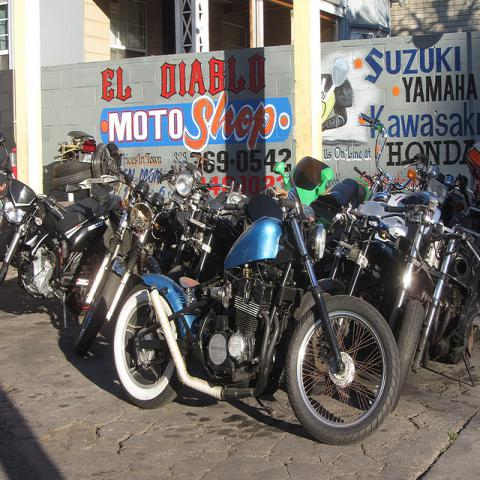motorcycle: (109, 170, 400, 446), (318, 114, 479, 322), (0, 131, 123, 329), (69, 164, 178, 358), (389, 187, 479, 407), (171, 180, 244, 282), (273, 154, 371, 210), (400, 153, 470, 226), (159, 162, 203, 254), (308, 194, 346, 282), (223, 185, 258, 234)
